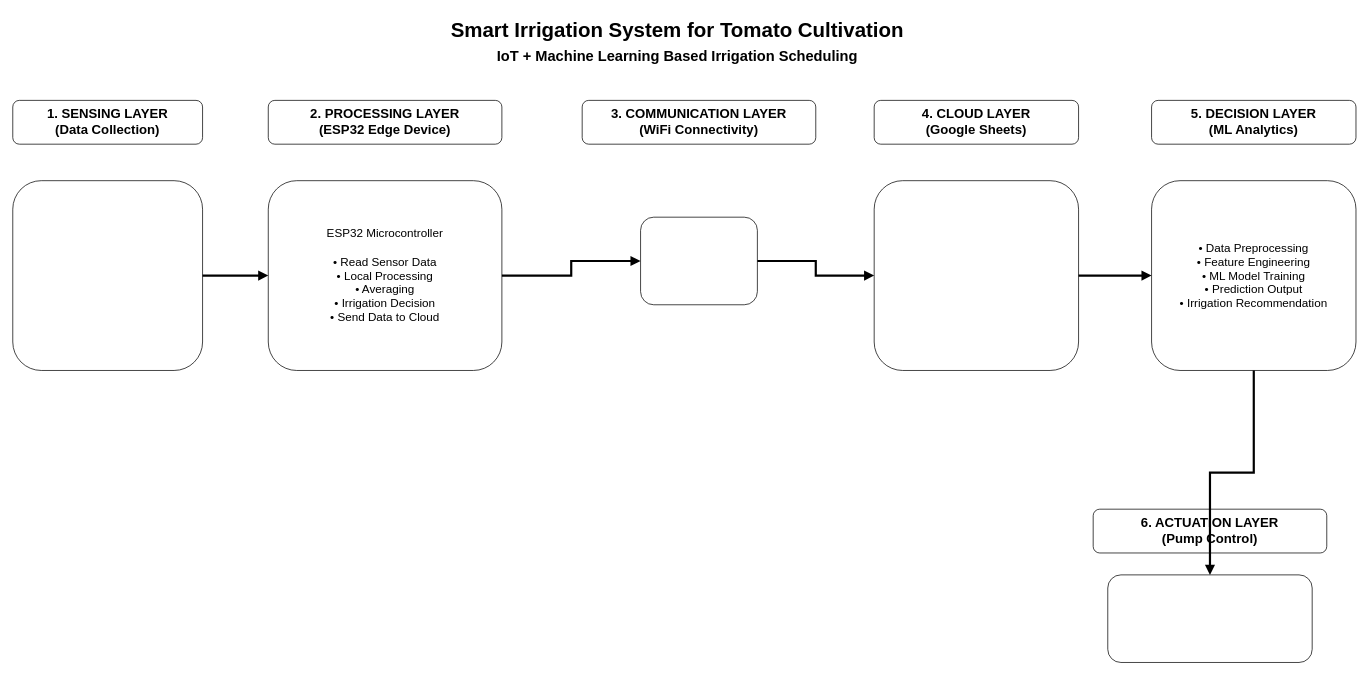
The diagram is 1369 pixels wide and 675 high, and some of its shapes have lost their labels. The box of each missing label's shape, as (x1, y1, x2, y2) in pixels:
Google Sheets • Store Sensor Data • Timestamp Records • Historical Dataset: (873, 180, 1079, 370)
Relay Module + Water Pump Irrigation ON / OFF: (1107, 574, 1312, 662)
WiFi / Internet: (640, 216, 757, 305)
• Soil Moisture Sensor • Temperature Sensor • Humidity Sensor • Pressure Sensor: (12, 180, 203, 370)
